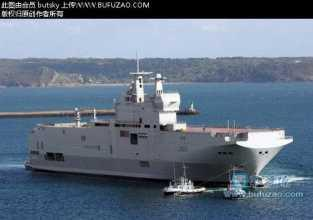otherboat: (161, 168, 205, 200), (222, 172, 253, 200)
warship: (24, 55, 291, 186)
